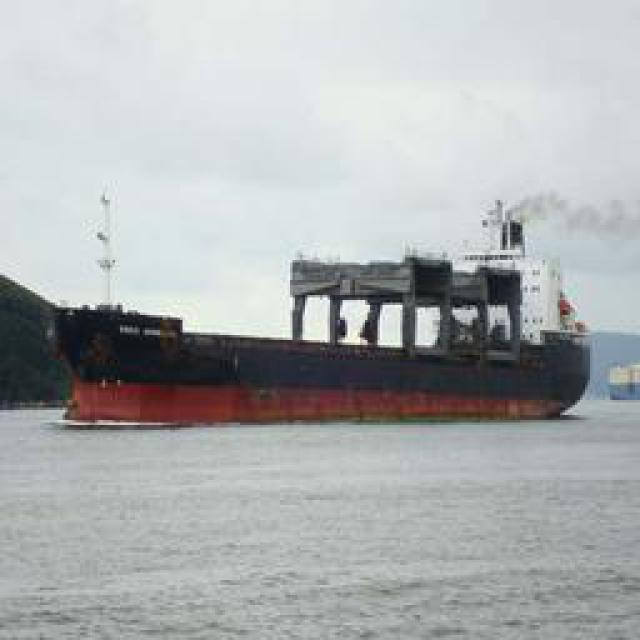Ship: (33, 213, 601, 428)
